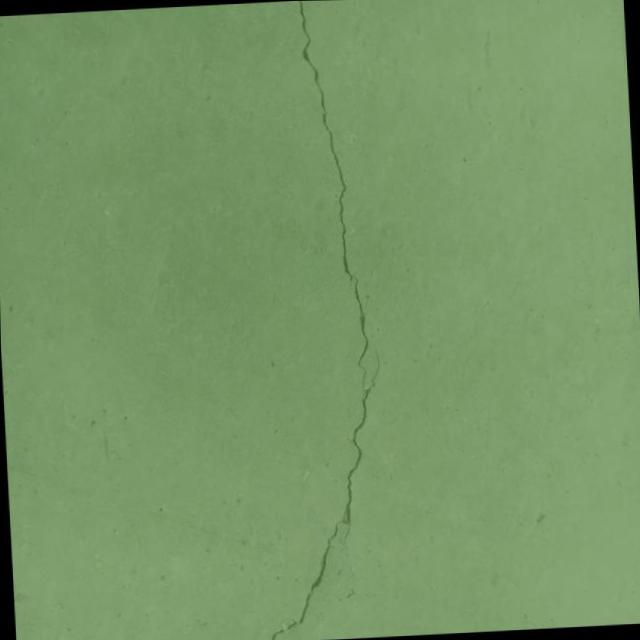crack: (236, 0, 401, 640)
